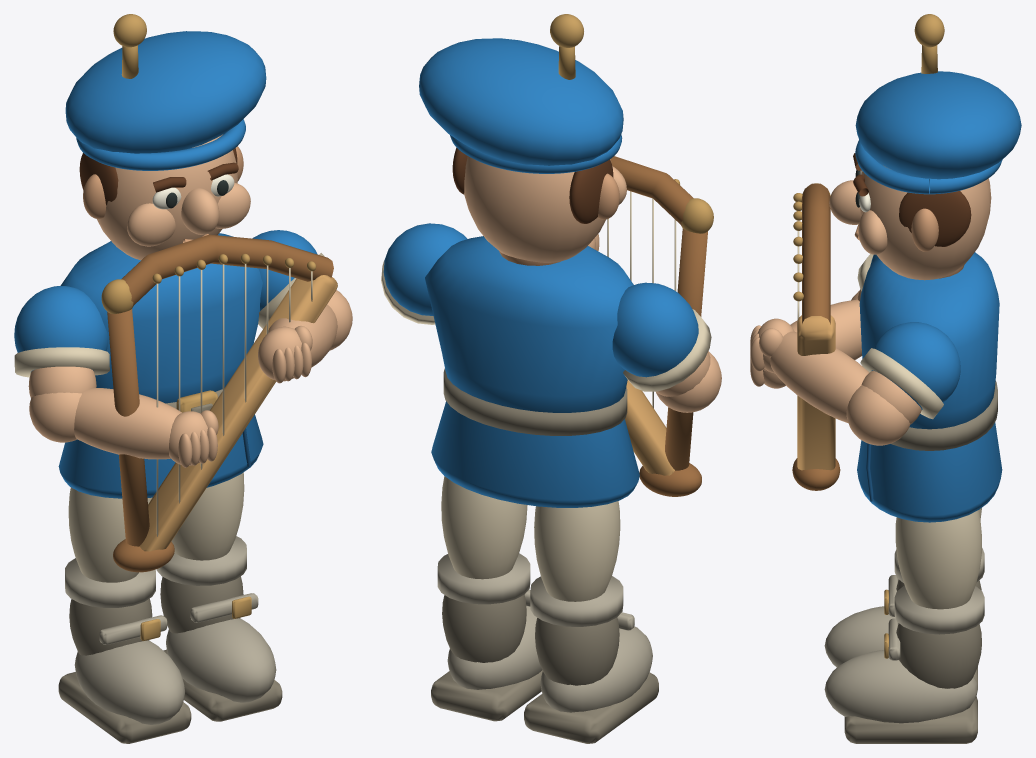
File: muzikant_medior.glb
3 views of the same model, side by side, from view 1: azimuth 30°, elevation 25°; view 2: azimuth 150°, elevation 25°; view 3: azimuth 270°, elevation 25° (orthographic). The views are drawn at different scales.
Parts seen in each view (by area): view 1: TEAM_Felt_beret.001, Tunic_torso.001, Harp_soundbox, Boot_toe.002, Boot_toe.003, Harp_curved_neck, Harp_plucking_right_Forearm, Head.001, Tunic_skirt.001, Harp_forepillar, Harp_plucking_right_Felt_sleeve, Trouser_leg.002 (+27 smaller); view 2: Tunic_torso.001, TEAM_Felt_beret.001, Tunic_skirt.001, Head.001, Trouser_leg.002, Trouser_leg.003, Harp_plucking_right_Felt_sleeve, Boot_shaft.003, Boot_shaft.002, Belt.001, Boot_toe.002, Harp_plucking_left_Felt_sleeve (+18 smaller); view 3: TEAM_Felt_beret.001, Tunic_torso.001, Tunic_skirt.001, Boot_toe.003, Trouser_leg.003, Head.001, Harp_plucking_left_Forearm, Boot_shaft.003, Harp_plucking_left_Felt_sleeve, Harp_soundbox, Harp_curved_neck, Boot_sole.003 (+17 smaller).
Part boxes in pixels (x1,y1,x2,y2): TEAM_Felt_beret.001: (65,31,266,153); Tunic_torso.001: (60,233,262,403); Harp_soundbox: (139,275,337,551); Boot_toe.002: (74,640,184,724); Boot_toe.003: (166,618,276,702); Harp_curved_neck: (121,234,333,306); Harp_plucking_right_Forearm: (74,388,181,459); Head.001: (97,134,237,260); Tunic_skirt.001: (58,414,263,498); Harp_forepillar: (107,309,149,546); Harp_plucking_right_Felt_sleeve: (14,286,107,371); Trouser_leg.002: (68,487,151,582); Tunic_torso.001: (425,236,633,412); TEAM_Felt_beret.001: (419,38,623,165); Tunic_skirt.001: (431,401,639,507); Head.001: (464,156,612,262); Trouser_leg.002: (534,501,620,601); Trouser_leg.003: (441,476,527,579); Harp_plucking_right_Felt_sleeve: (612,282,698,377); Boot_shaft.003: (442,594,526,662); Boot_shaft.002: (535,617,619,685); Belt.001: (443,368,627,435); Boot_toe.002: (540,626,652,712); Harp_plucking_left_Felt_sleeve: (383,223,467,315); TEAM_Felt_beret.001: (855,71,1021,179); Tunic_torso.001: (859,252,999,429); Tunic_skirt.001: (857,422,1002,522); Boot_toe.003: (824,650,977,723); Trouser_leg.003: (895,510,981,609); Head.001: (860,165,991,280); Harp_plucking_left_Forearm: (770,331,869,423); Boot_shaft.003: (896,623,981,688); Harp_plucking_left_Felt_sleeve: (871,322,960,409); Harp_soundbox: (797,315,835,470); Harp_curved_neck: (802,183,830,324); Boot_sole.003: (844,697,977,743).
Bounding box in the file's own units: 1.07 × 2.24 × 0.814.
